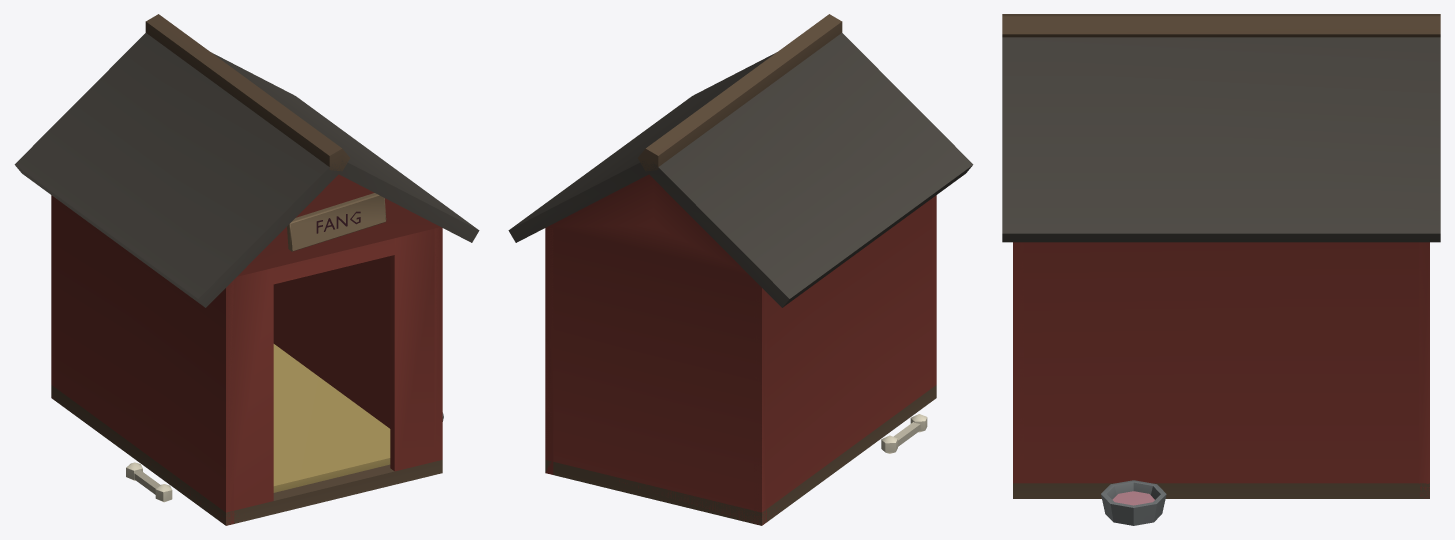
Rendered from doghouse_crypt.glb.
The picture shows the model from 3 angles, left to right: view 1: azimuth 30°, elevation 25°; view 2: azimuth 150°, elevation 25°; view 3: azimuth 270°, elevation 25°; orthographic projection. The views are drawn at different scales.
Visible parts, largest first — view 1: doghouse_crypt; view 2: doghouse_crypt; view 3: doghouse_crypt.
Part boxes in pixels (box(x1,y1,x2,y2)): doghouse_crypt: box(14, 14, 479, 525); doghouse_crypt: box(508, 14, 973, 525); doghouse_crypt: box(1002, 14, 1440, 525).
Size of the model in its own units: 0.9368 by 1.06 by 1.
